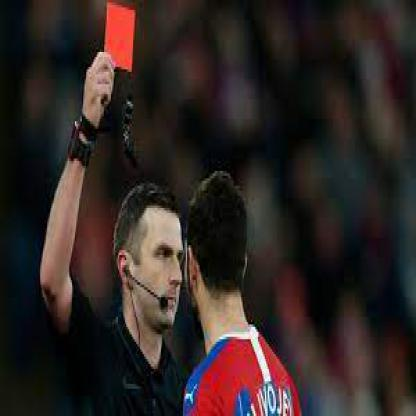foul: (77, 1, 151, 172)
